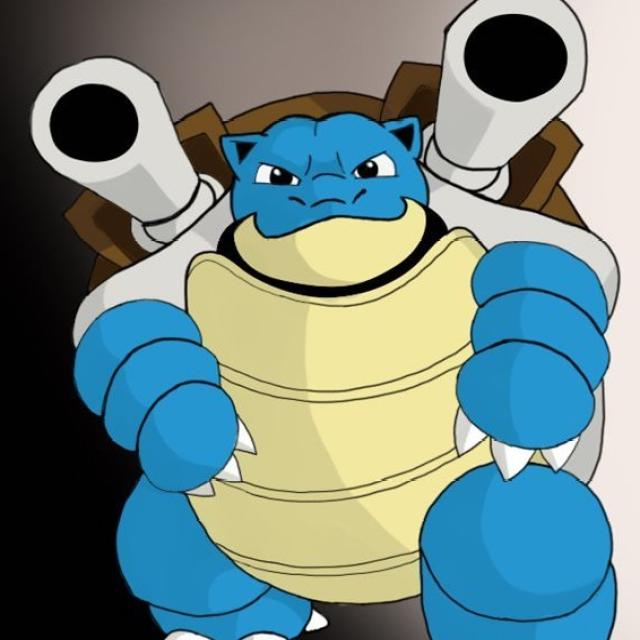Blastoise: (31, 7, 622, 640)
